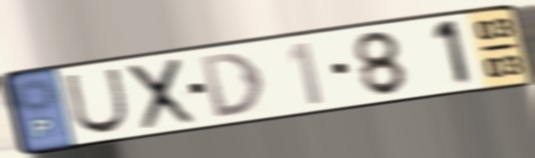1: (430, 16, 475, 88), (285, 39, 324, 108)
8: (350, 29, 412, 99)
D: (196, 49, 267, 121)
U: (62, 66, 132, 137)
X: (125, 54, 199, 133)
